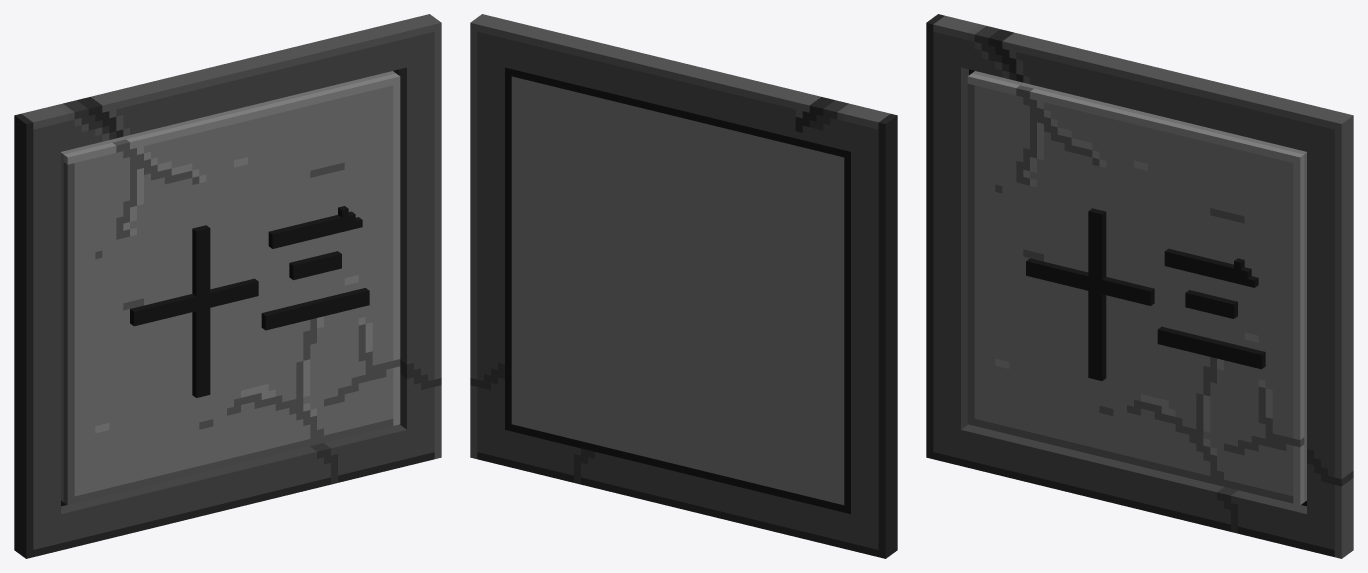
File: balpan_13.obj
3 views of the same model, side by side, from view 1: azimuth 30°, elevation 25°; view 2: azimuth 150°, elevation 25°; view 3: azimuth 330°, elevation 25° (orthographic).
Parts seen in each view (by area): view 1: balpan_13; view 2: balpan_13; view 3: balpan_13.
Boxes of the visible parts, x1=… form: balpan_13: x1=14, y1=14, x2=441, y2=558; balpan_13: x1=470, y1=14, x2=897, y2=558; balpan_13: x1=926, y1=14, x2=1353, y2=558.
Bounding box in the file's own units: 60 × 60 × 4.
1 material, 1 textured.
